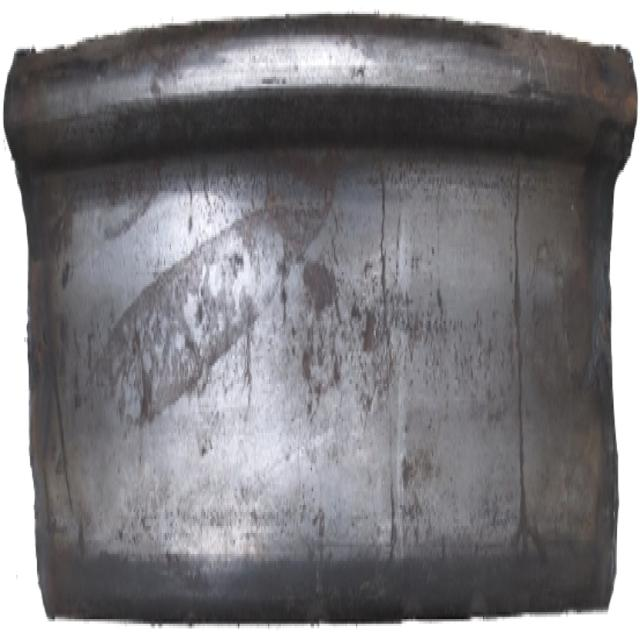Contact_Fatigue_Cracks: (511, 163, 541, 585), (378, 163, 398, 351)
Peeling: (305, 253, 339, 317), (361, 302, 379, 361), (140, 369, 154, 426), (304, 346, 314, 394), (402, 455, 414, 486), (335, 356, 343, 388)
